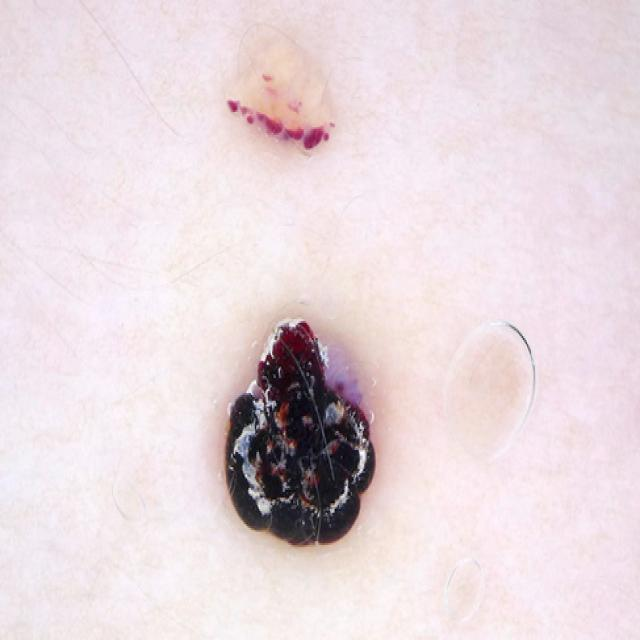Vascular Lesions: (170, 260, 434, 622)
